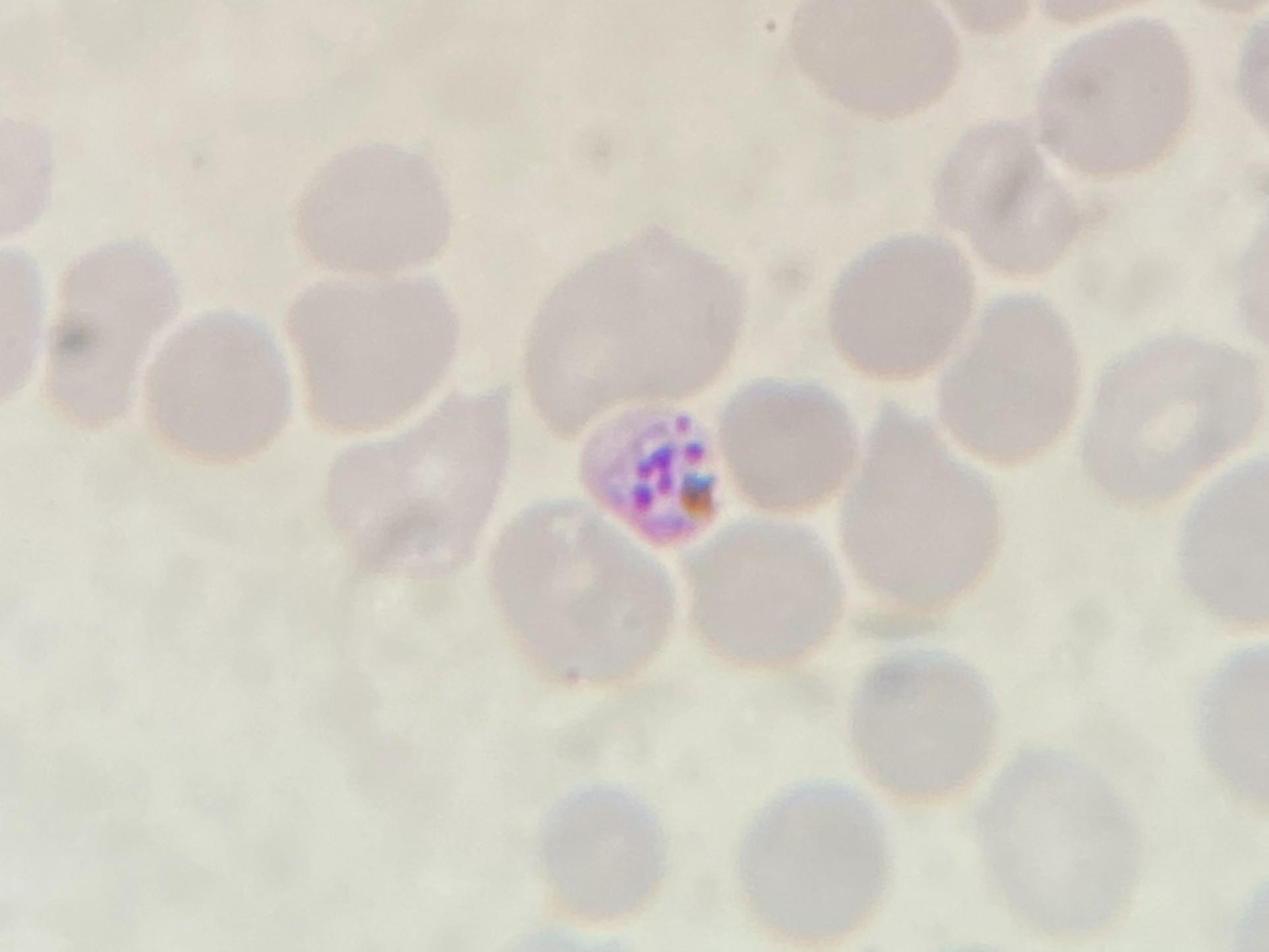Infected: (578, 404, 718, 549)
Uninfected: (522, 227, 746, 432), (322, 384, 514, 585), (837, 409, 1003, 620), (489, 500, 674, 687), (1079, 332, 1260, 505), (975, 750, 1142, 937), (289, 276, 463, 435), (47, 235, 185, 427), (1037, 16, 1196, 177), (736, 784, 895, 943), (686, 517, 849, 670), (937, 295, 1081, 467), (142, 309, 298, 466), (933, 123, 1093, 275), (848, 652, 1001, 804), (825, 233, 976, 384), (788, 1, 961, 123), (298, 140, 449, 275), (717, 376, 859, 515), (537, 785, 666, 924), (1175, 452, 1268, 624)
